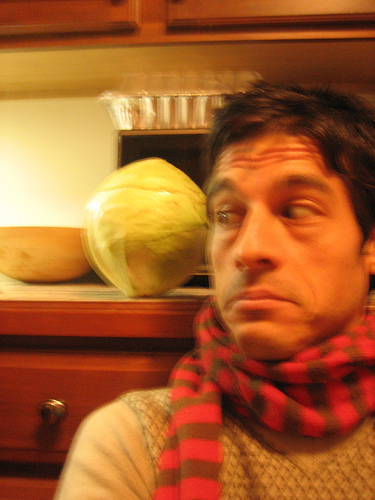cabbage: (82, 158, 210, 298)
